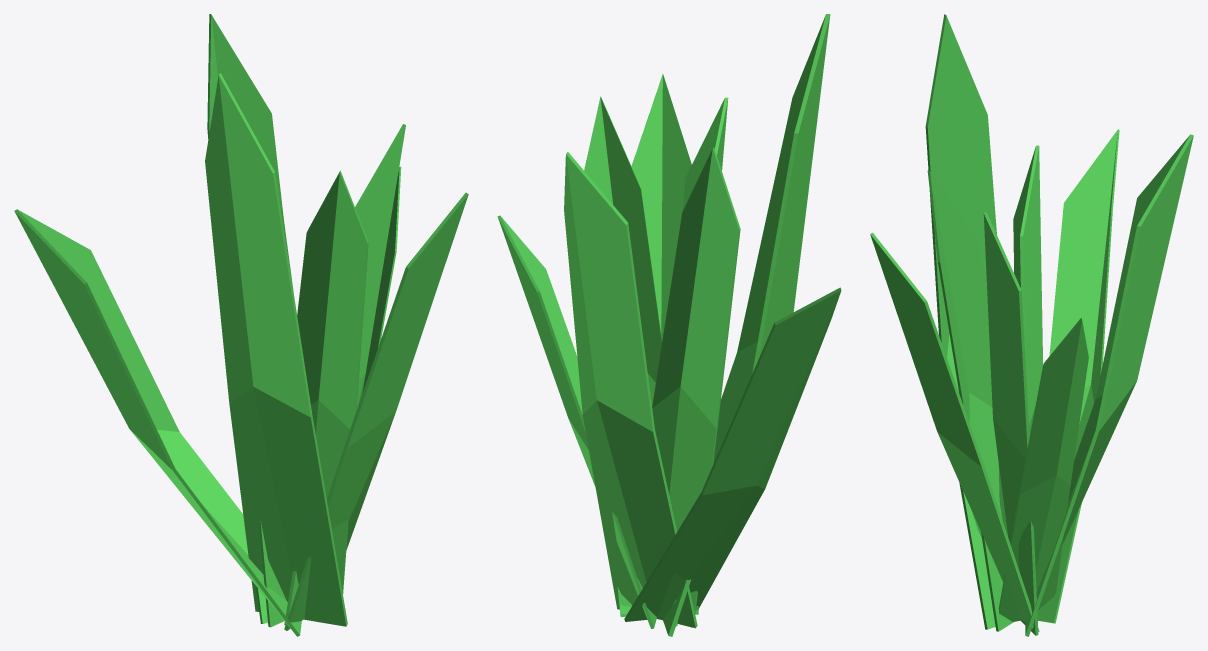
Rendered from Grass2.fbx.
The picture shows the model from 3 angles, left to right: view 1: azimuth 30°, elevation 25°; view 2: azimuth 150°, elevation 25°; view 3: azimuth 270°, elevation 25°; orthographic projection. The views are drawn at different scales.
Parts seen in each view (by area): view 1: Plane.006, Plane.009, Plane.011, Plane.007, Plane.008, Plane.004, Plane.005, Plane.010; view 2: Plane.004, Plane.010, Plane.009, Plane.006, Plane.007, Plane.008, Plane.005, Plane.011; view 3: Plane.004, Plane.006, Plane.009, Plane.005, Plane.011, Plane.007, Plane.008, Plane.010.
Boxes of the visible parts, x1=… form: Plane.006: x1=205, y1=73, x2=347, y2=626; Plane.009: x1=14, y1=209, x2=301, y2=636; Plane.011: x1=297, y1=170, x2=368, y2=593; Plane.007: x1=284, y1=192, x2=468, y2=630; Plane.008: x1=284, y1=124, x2=405, y2=625; Plane.004: x1=207, y1=14, x2=283, y2=623; Plane.005: x1=362, y1=166, x2=401, y2=392; Plane.010: x1=259, y1=209, x2=293, y2=627; Plane.004: x1=564, y1=152, x2=697, y2=628; Plane.010: x1=631, y1=147, x2=740, y2=627; Plane.009: x1=624, y1=287, x2=841, y2=621; Plane.006: x1=662, y1=14, x2=830, y2=636; Plane.007: x1=620, y1=74, x2=698, y2=614; Plane.008: x1=584, y1=96, x2=698, y2=616; Plane.005: x1=497, y1=215, x2=656, y2=628; Plane.011: x1=673, y1=97, x2=728, y2=626; Plane.004: x1=1025, y1=134, x2=1193, y2=636; Plane.006: x1=925, y1=14, x2=996, y2=629; Plane.009: x1=1037, y1=129, x2=1119, y2=623; Plane.005: x1=998, y1=318, x2=1088, y2=621; Plane.011: x1=927, y1=170, x2=1013, y2=631; Plane.007: x1=870, y1=232, x2=1039, y2=632; Plane.008: x1=983, y1=212, x2=1038, y2=635; Plane.010: x1=1013, y1=145, x2=1042, y2=628.
Size of the model in its own units: 67.46 by 107 by 56.91.
